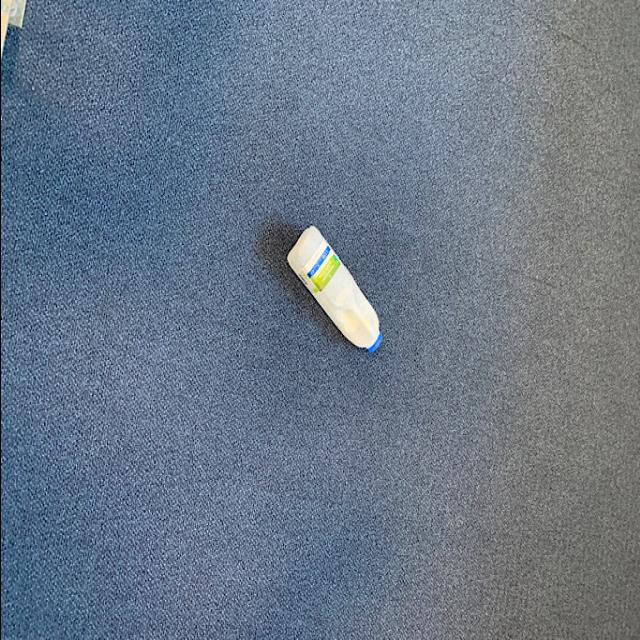HDPEM: (282, 221, 385, 359)
